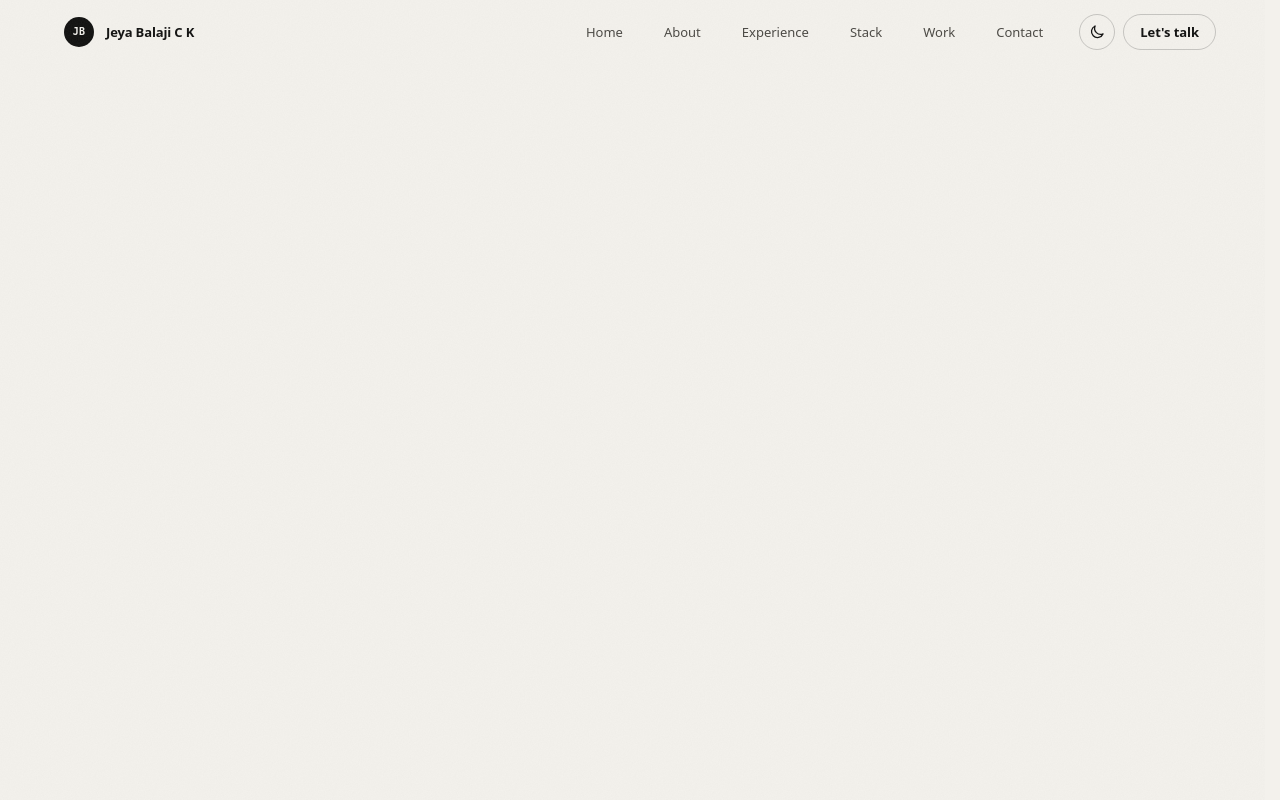
Header › toggles the colour theme
Click the button named "Switch to dark theme".
click(1097, 32)  # box [1079,14,1115,50]
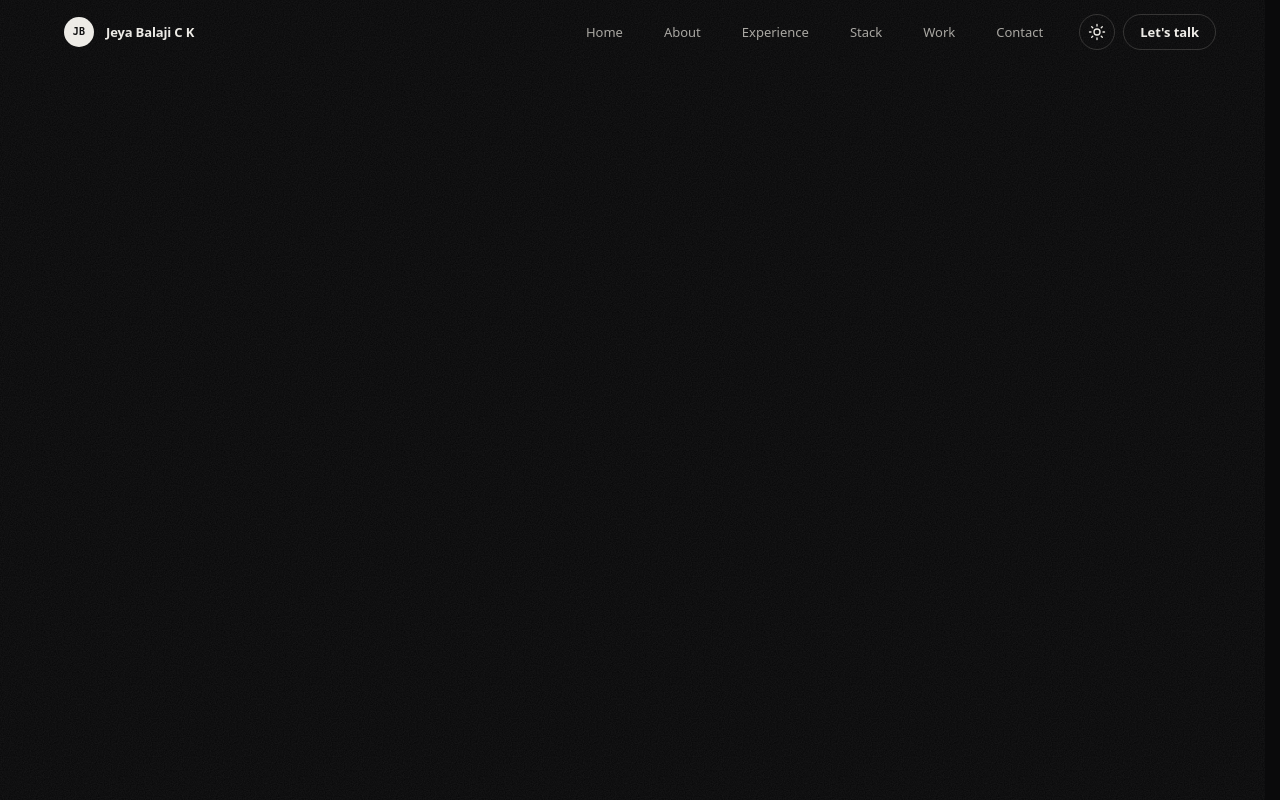
Expected: the button named "Switch to light theme" is shown, [1079,14,1115,50]
